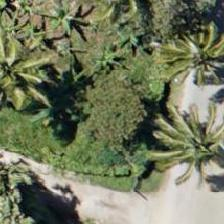coconut_tree: (119, 93, 209, 183), (139, 0, 223, 87), (0, 18, 55, 108), (61, 0, 151, 45)
